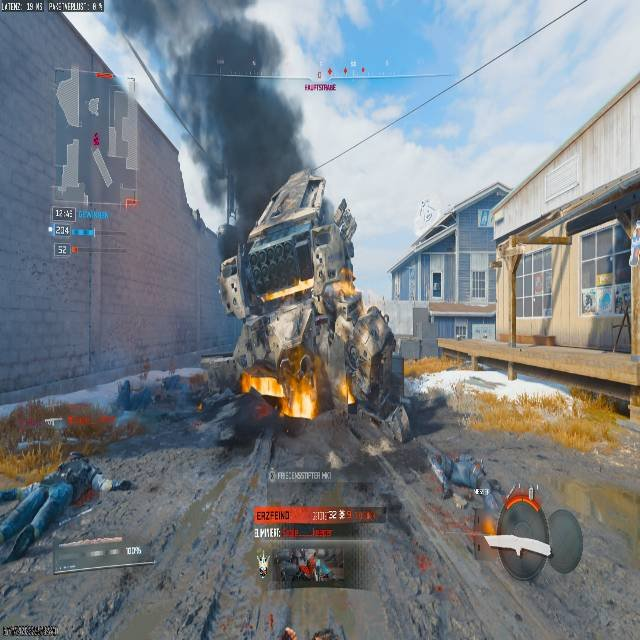player: (318, 287, 396, 401)
